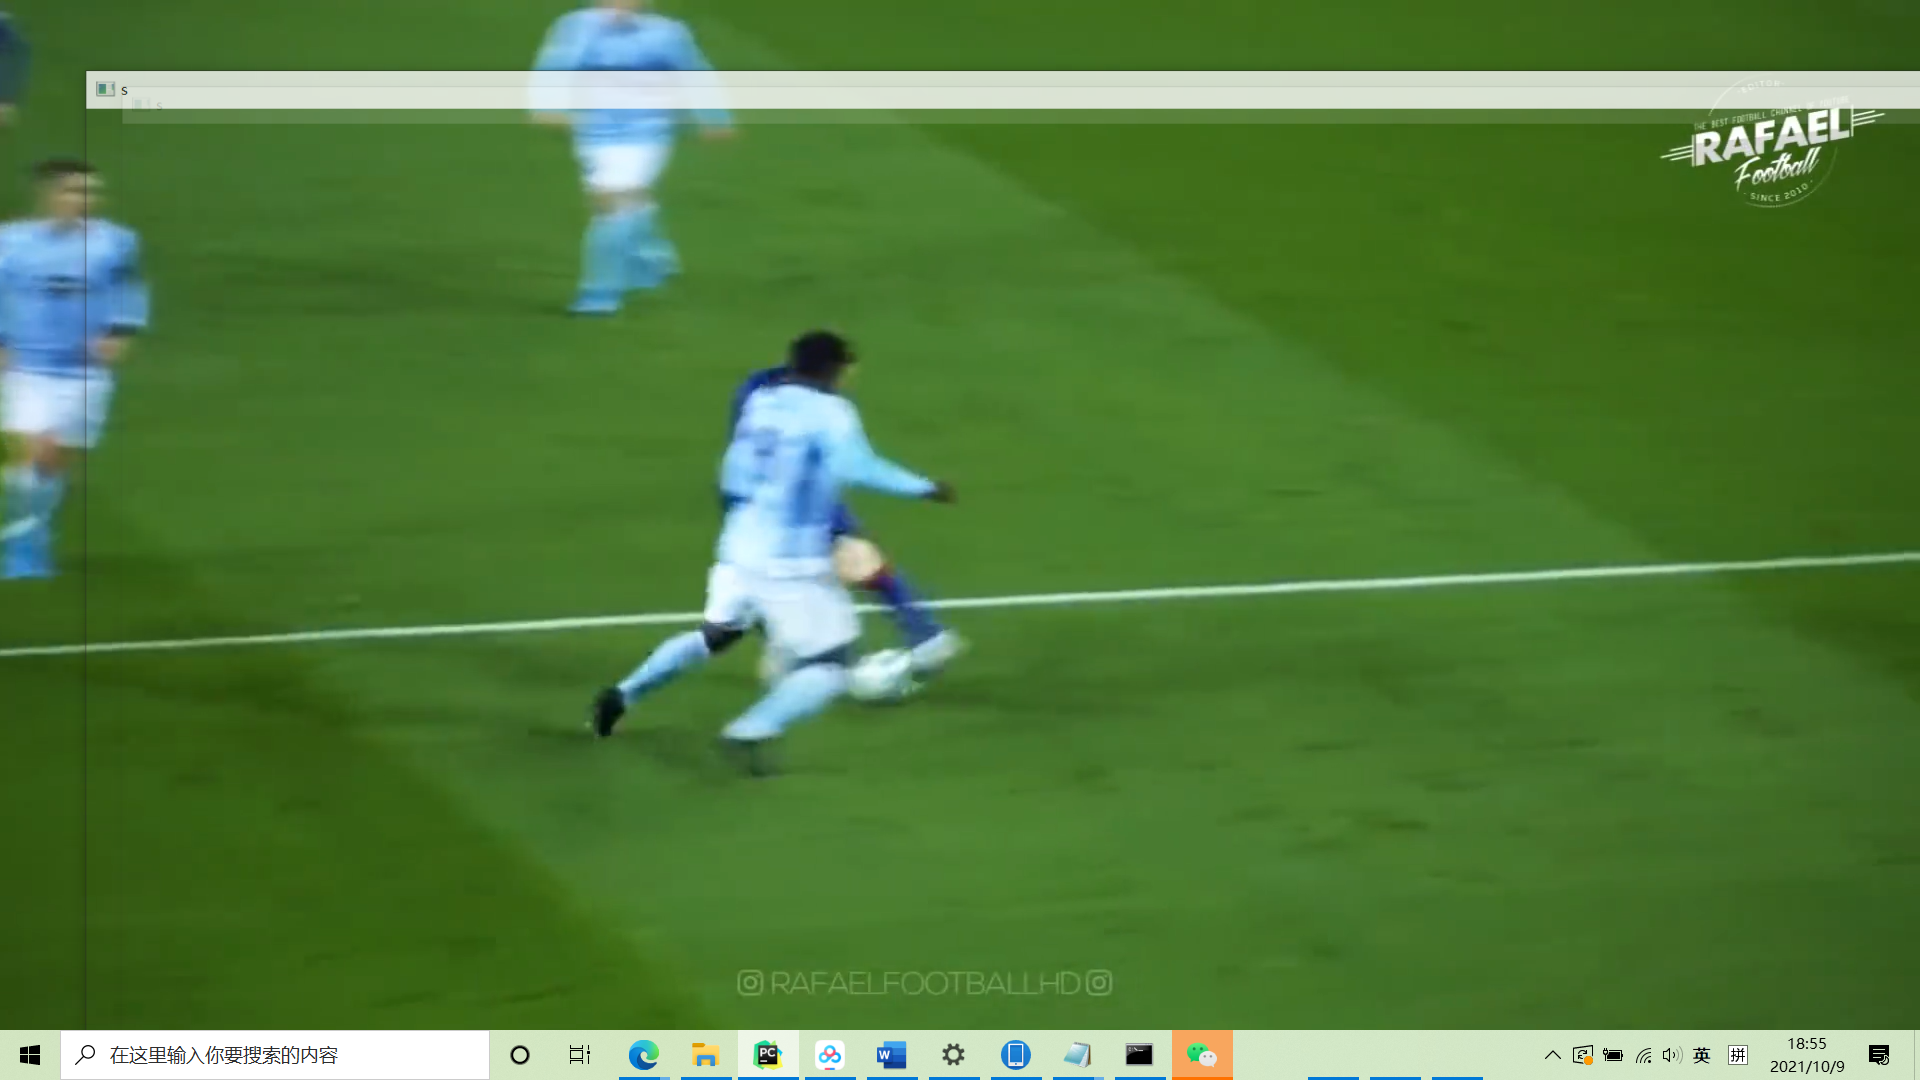ft: (851, 649, 923, 709)
